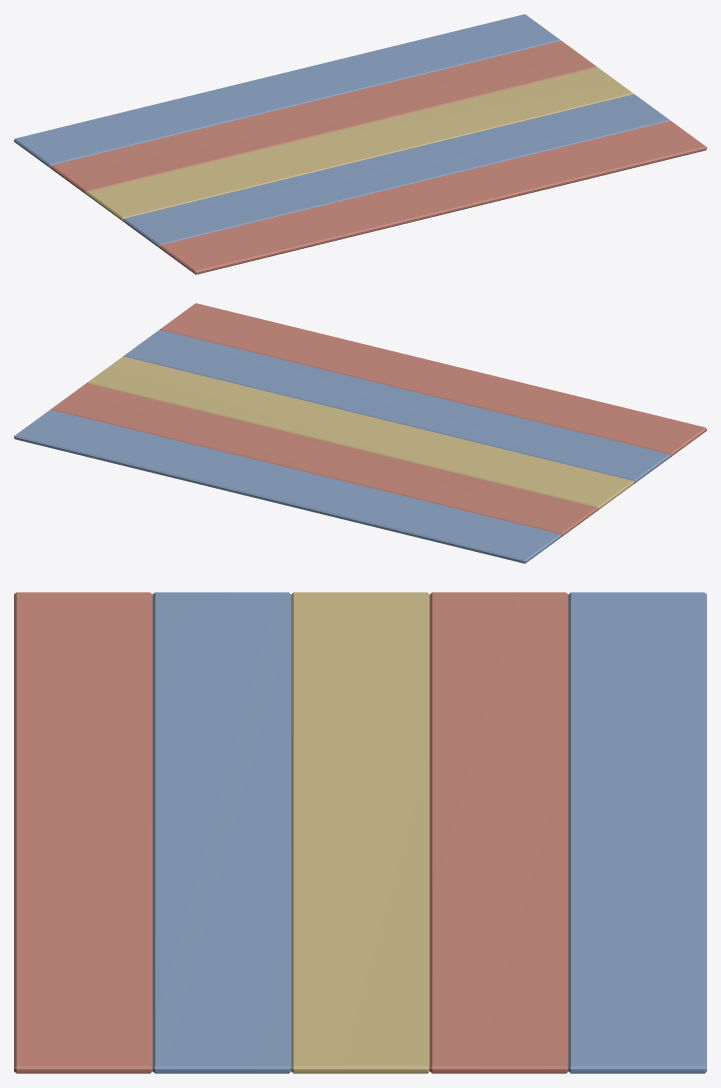
Rendered from rug_rag.glb.
3 views of the same model, one above another, from view 1: azimuth 30°, elevation 25°; view 2: azimuth 150°, elevation 25°; view 3: azimuth 270°, elevation 25° (orthographic). The views are drawn at different scales.
Parts seen in each view (by area): view 1: rug; view 2: rug; view 3: rug.
Boxes of the visible parts, x1=… form: rug: x1=14, y1=14, x2=706, y2=274; rug: x1=14, y1=303, x2=706, y2=563; rug: x1=14, y1=592, x2=706, y2=1073.
Size of the model in its own units: 2.6 by 0.02 by 1.6.
